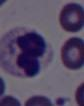N: (0, 26, 54, 78)
